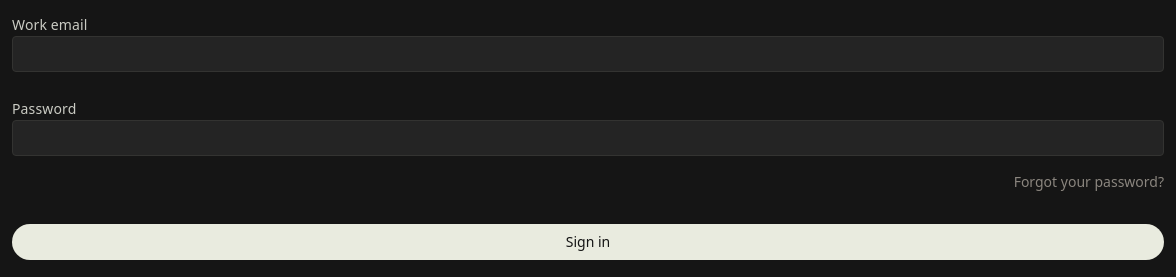
LoginForm › disables the button and swaps its label while loginAction is pending
This screenshot has width=1176, height=277.
Type "ada@wexley.example" into the field labelled "Work email" at (588, 54), box [12,36,1164,72]
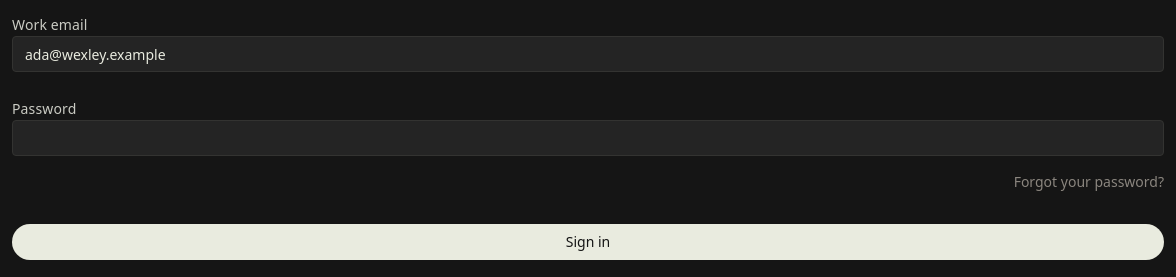
Type "correct-horse-1!" into the password field labelled "Password" at (588, 138), box [12,120,1164,156]
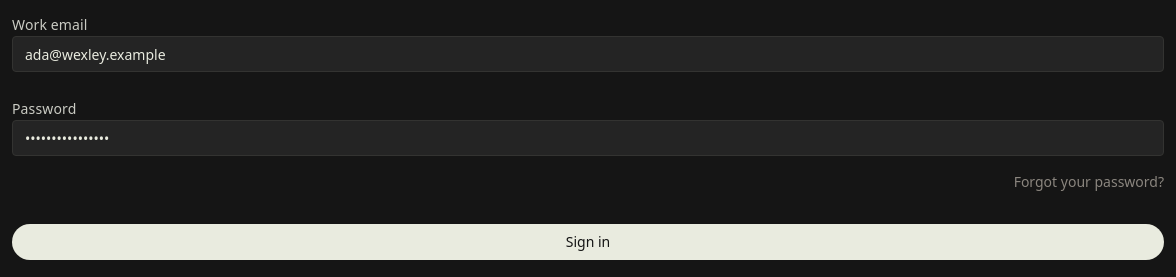
Click the button "Sign in" at (588, 242), box [12,224,1164,260]
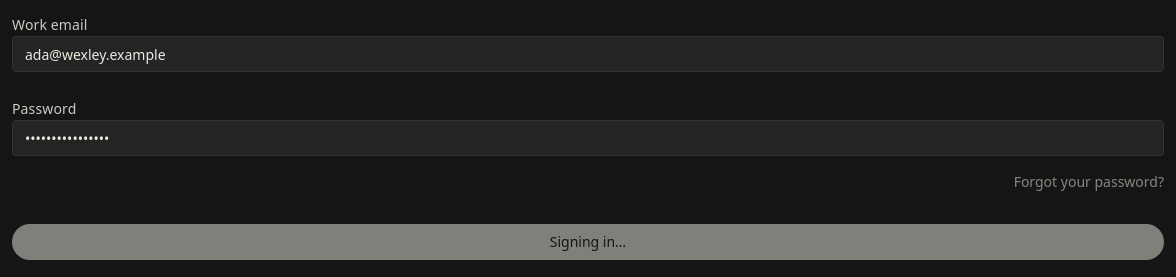
Now the button "Signing in…" is disabled, box [12,224,1164,260]
